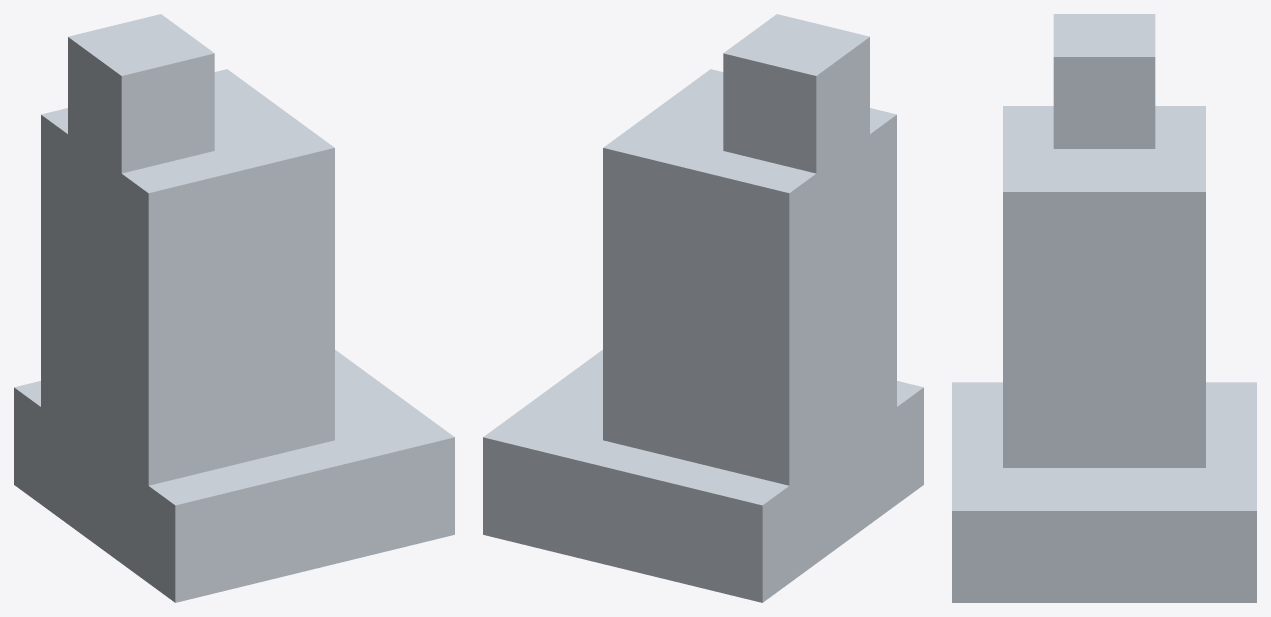
File: stone-03.obj
3 renders of one model, left to right at view 1: azimuth 30°, elevation 25°; view 2: azimuth 150°, elevation 25°; view 3: azimuth 270°, elevation 25°, orthographic. The views are drawn at different scales.
Size of the model in its own units: 3 by 5 by 3.
1 material, 1 textured.
